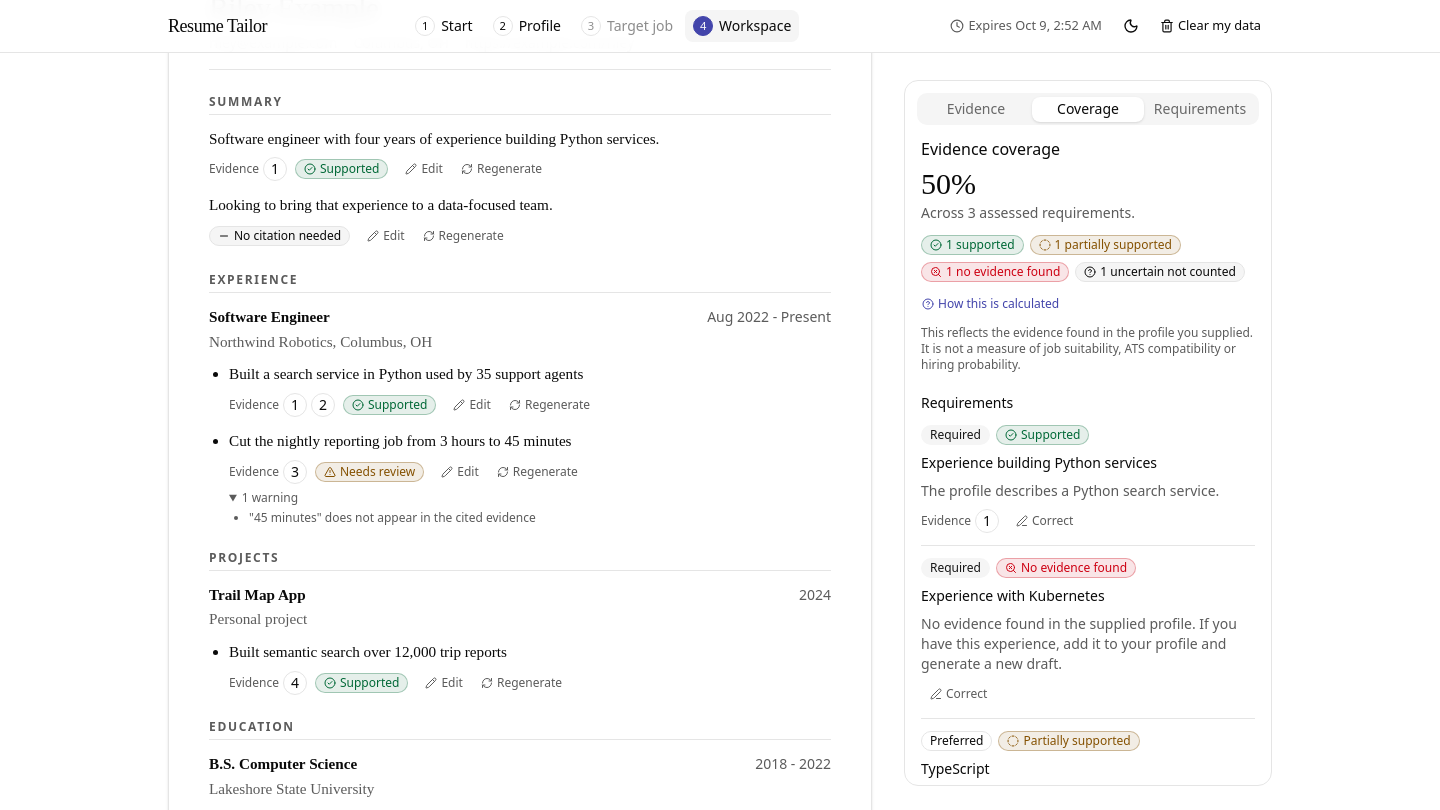
it: Workspace evidence panel (two panes) › explains a missing evidence record and offers Retry for other failures
(page scrolled)
Click the button named "Show evidence 1 for this statement": point(295, 405) [283, 393, 307, 417]
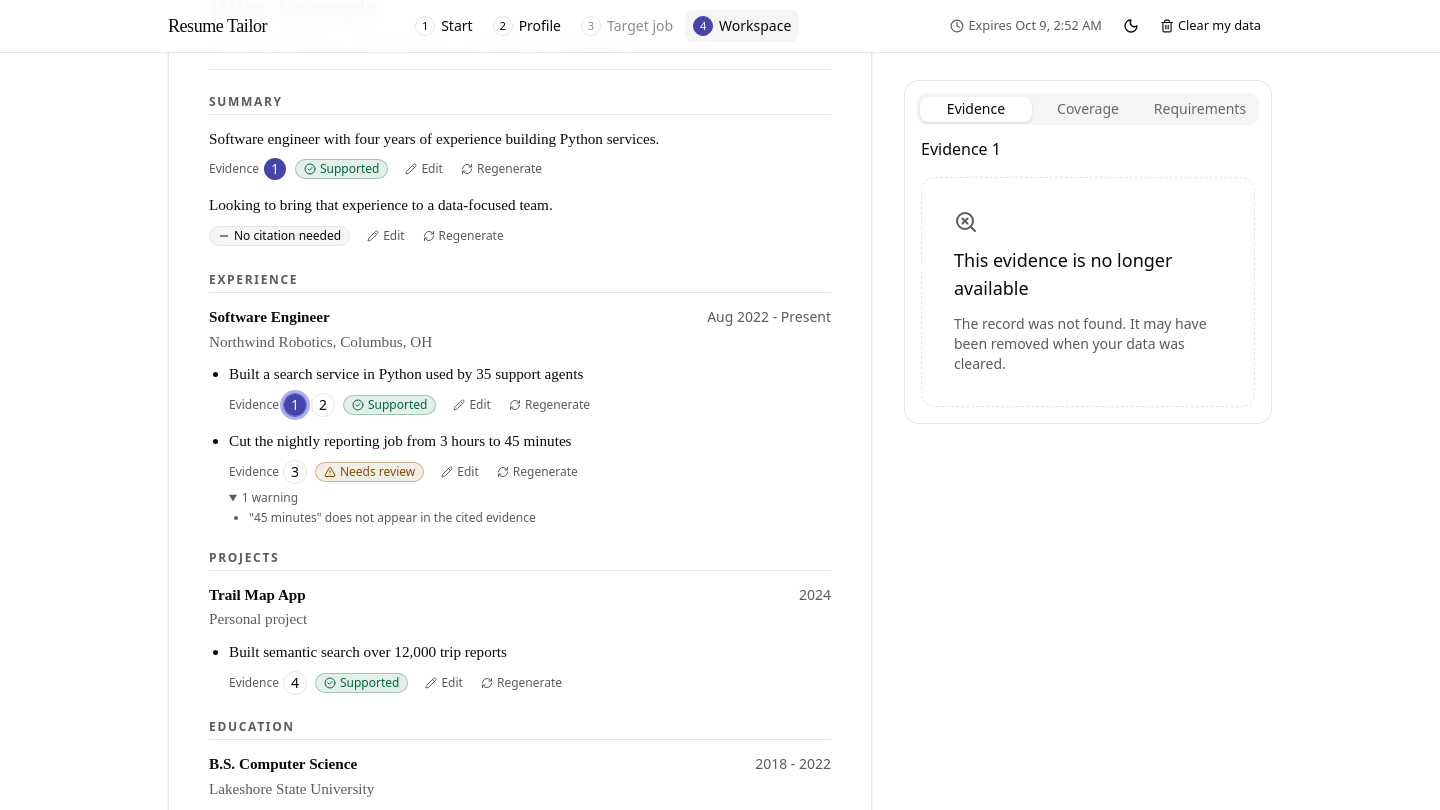
Now the heading "This evidence is no longer available" is shown, box [954, 248, 1172, 300]
Click the button named "Show evidence 2 for this statement": point(323, 405) [311, 393, 335, 417]
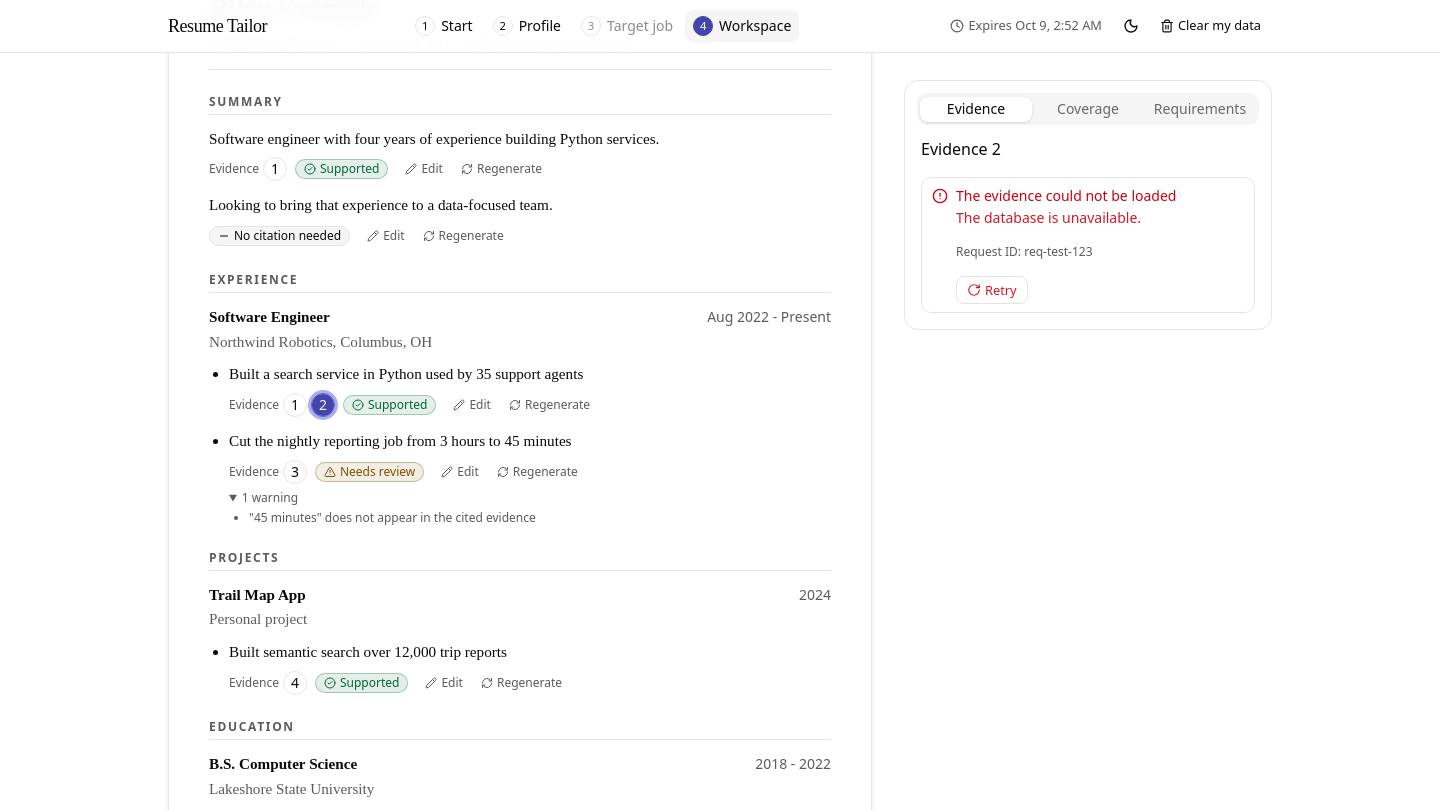
Now the message shows "The evidence could not be loaded", box [956, 186, 1176, 205]
Click the button "Retry": point(992, 290) [956, 276, 1028, 304]
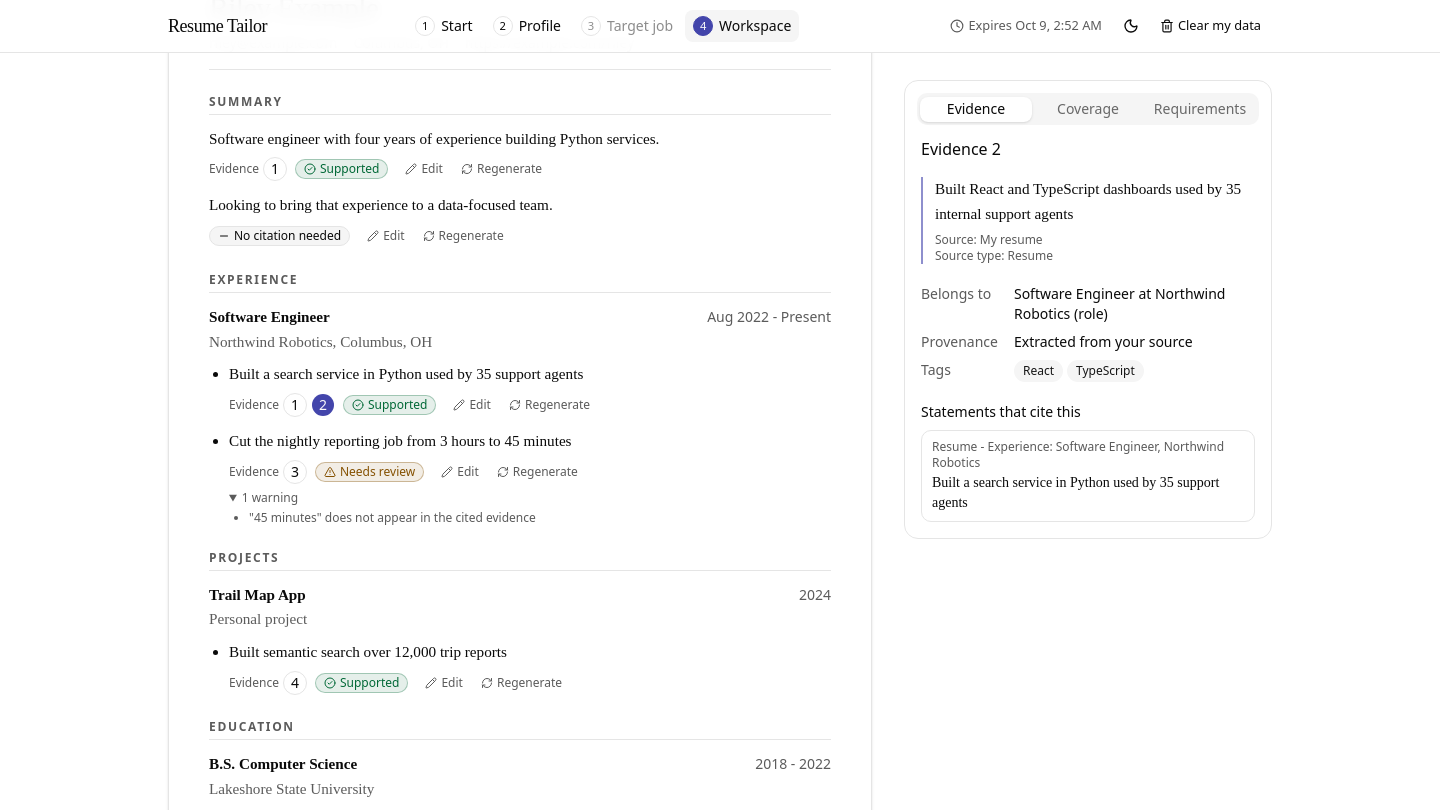
Now the text "Built React and TypeScript dashboards used by 35 internal support agents" is shown, box [935, 177, 1255, 226]
